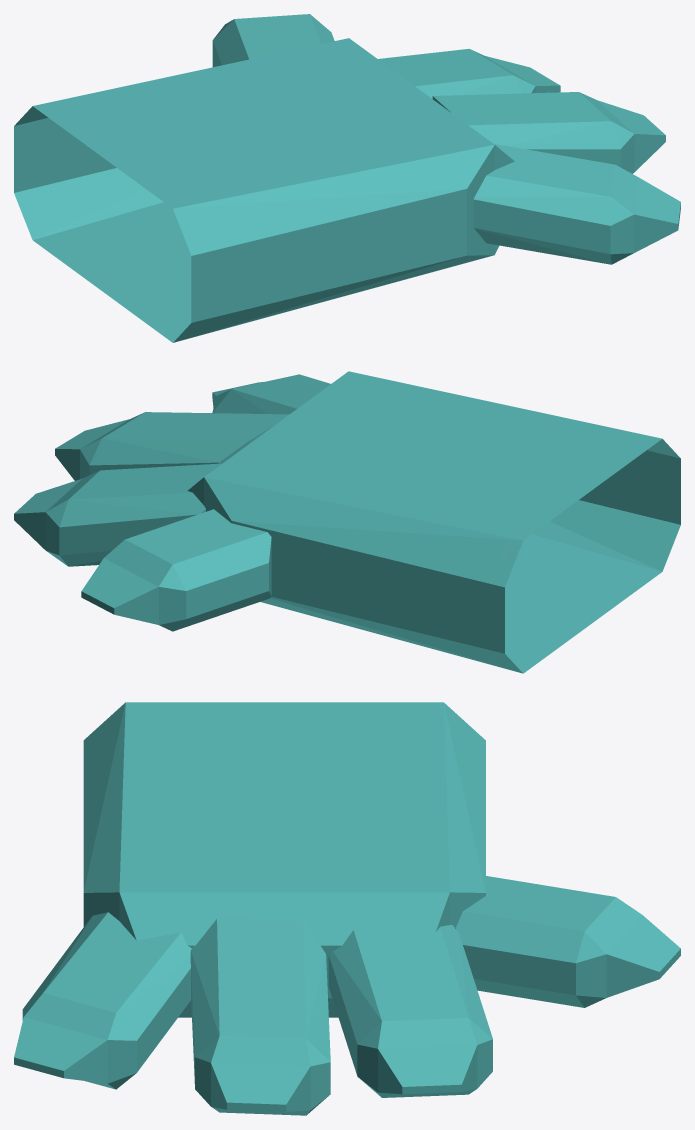
The model's file is Perry_Hand.obj.
3 renders of one model, top to bottom at view 1: azimuth 30°, elevation 25°; view 2: azimuth 150°, elevation 25°; view 3: azimuth 270°, elevation 25°, orthographic. The views are drawn at different scales.
Visible parts, largest first — view 1: R_antebrazo; view 2: R_antebrazo; view 3: R_antebrazo.
Boxes of the visible parts, x1,y1,x2,y2 form: R_antebrazo: (14,14,680,342); R_antebrazo: (14,371,680,673); R_antebrazo: (14,702,680,1115).
Size of the model in its own units: 0.5081 by 0.1203 by 0.4778.
